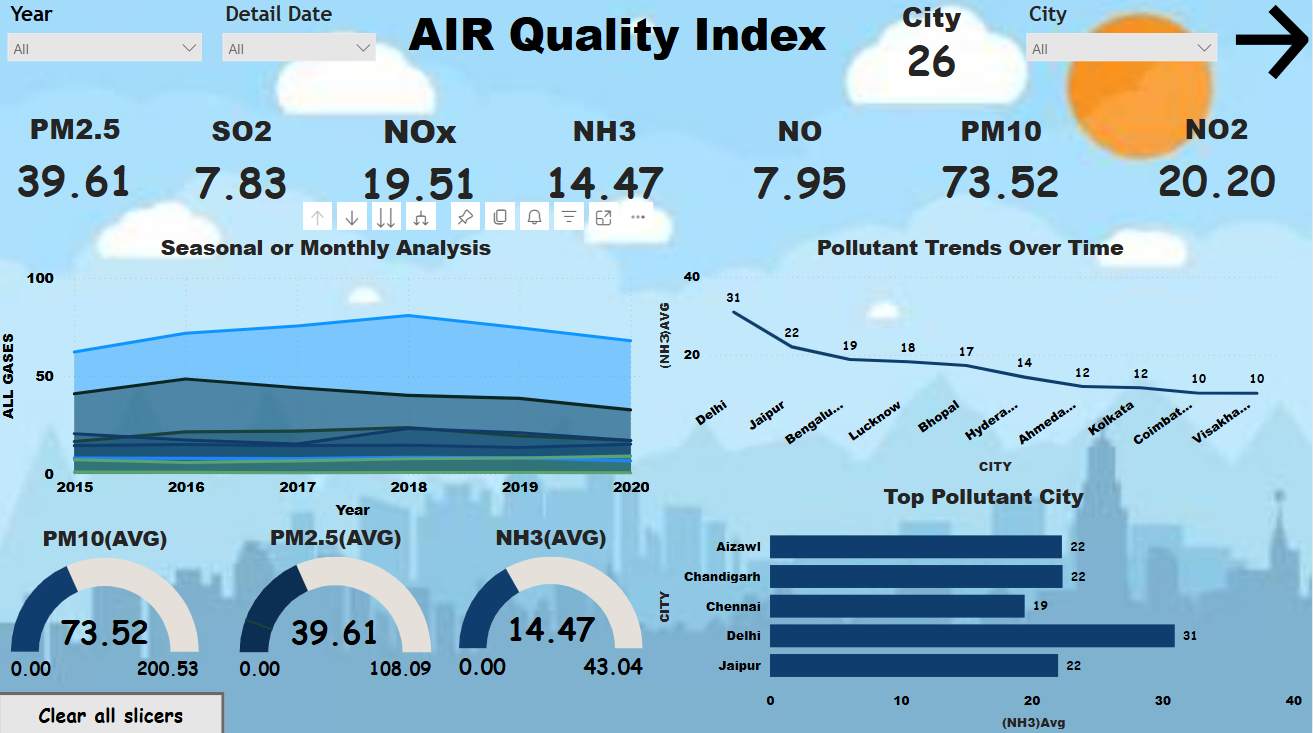

What the dashboard file says about the page in this screenshot:
{"tool":"powerbi","page":{"name":"Page 1","canvas":[1280,720],"ordinal":0},"visuals":[{"type":"card","title":"City","fields":{"Values":["Count(Dataset.City)"]},"box":[838.8,0,140.1,88.2],"z":0},{"type":"card","title":"SO2","fields":{"Values":["Avg(Dataset.SO2)"]},"box":[152.2,110.2,172.4,105.6],"z":1000},{"type":"card","title":"PM2.5","fields":{"Values":["Avg(Dataset.PM2.5)"]},"box":[0,108.7,152.2,105.6],"z":2000},{"type":"card","title":"PM10","fields":{"Values":["Avg(Dataset.PM10)"]},"box":[878.9,110.2,195.6,104],"z":3000},{"type":"card","title":"NO","fields":{"Values":["Avg(Dataset.NO)"]},"box":[683.2,110.2,195.6,105.6],"z":4000},{"type":"card","title":"NOx","fields":{"Values":["Avg(Dataset.NOx)"]},"box":[323,108.7,175.5,107.1],"z":5000},{"type":"card","title":"NH3","fields":{"Values":["Avg(Dataset.NH3)"]},"box":[498.4,110.2,184.8,105.6],"z":6000},{"type":"card","title":"NO2","fields":{"Values":["Avg(Dataset.NO2)"]},"box":[1093.2,108.7,186.3,105.6],"z":7000},{"type":"slicer","fields":{"Values":["Dataset.City"]},"box":[991,0,205.8,88.2],"z":8000},{"type":"lineChart","title":"Pollutant Trends Over Time","fields":{"Category":["Dataset.City"],"Y":["Avg(Dataset.NH3)"]},"box":[639.9,228.3,614,242.1],"z":9000},{"type":"areaChart","title":"Seasonal or Monthly Analysis","fields":{"Y":["Avg(Dataset.NH3)","Avg(Dataset.NO)","Avg(Dataset.NO2)","Avg(Dataset.CO)","Avg(Dataset.NOx)","Avg(Dataset.PM10)","Avg(Dataset.PM2.5)","Avg(Dataset.SO2)"],"Category":["Dataset.Date.Variation.Date Hierarchy.Year","Dataset.Date.Variation.Date Hierarchy.Quarter","Dataset.Date.Variation.Date Hierarchy.Month","Dataset.Date.Variation.Date Hierarchy.Day"]},"box":[0,228.3,639.7,284.2],"z":10000},{"type":"gauge","title":"PM2.5(AVG)","fields":{"Y":["Avg(Dataset.PM2.5)"]},"box":[221.4,510.2,216.2,166],"z":11000},{"type":"slicer","fields":{"Values":["Dataset.Date.Variation.Date Hierarchy.Year"]},"box":[0,0,209.3,88.2],"z":12000},{"type":"slicer","fields":{"Values":["Dataset.Date.Variation.Date Hierarchy.Quarter","Dataset.Date.Variation.Date Hierarchy.Month","Dataset.Date.Variation.Date Hierarchy.Day"]},"box":[209.3,0,169.5,88.2],"z":13000},{"type":"textbox","box":[378.8,0,460,88.2],"z":14000},{"type":"gauge","title":"PM10(AVG)","fields":{"Y":["Avg(Dataset.PM10)"]},"box":[1.7,511.9,207.5,164.3],"z":15000},{"type":"gauge","title":"NH3(AVG)","fields":{"Y":["Avg(Dataset.NH3)"]},"box":[437.6,510.2,202.4,166],"z":16000},{"type":"clusteredBarChart","title":"Top Pollutant City","fields":{"Y":["Avg(Dataset.NH3)"],"Category":["Dataset.City"]},"box":[639.9,470.4,639.9,249],"z":17000},{"type":"actionButton","box":[1196.8,0,83,88.2],"z":18000},{"type":"actionButton","box":[0,676.2,221.4,43.2],"z":19000}]}

Visuals, with their boxes in screenshot pixels (x1, y1, x2, y2), scaled from the page's 1280x720 canvas onto the 1313x733 screenshot:
"City" card: (860, 0, 1004, 90)
"SO2" card: (156, 112, 333, 220)
"PM2.5" card: (0, 111, 156, 218)
"PM10" card: (902, 112, 1102, 218)
"NO" card: (701, 112, 901, 220)
"NOx" card: (331, 111, 511, 220)
"NH3" card: (511, 112, 701, 220)
"NO2" card: (1121, 111, 1312, 218)
slicer - Dataset.City: (1017, 0, 1228, 90)
"Pollutant Trends Over Time" lineChart: (656, 232, 1286, 479)
"Seasonal or Monthly Analysis" areaChart: (0, 232, 656, 522)
"PM2.5(AVG)" gauge: (227, 519, 449, 688)
slicer - Dataset.Date.Variation.Date Hierarchy.Year: (0, 0, 215, 90)
slicer - Dataset.Date.Variation.Date Hierarchy.Quarter x Dataset.Date.Variation.Date Hierarchy.Month: (215, 0, 389, 90)
textbox: (389, 0, 860, 90)
"PM10(AVG)" gauge: (2, 521, 215, 688)
"NH3(AVG)" gauge: (449, 519, 656, 688)
"Top Pollutant City" clusteredBarChart: (656, 479, 1312, 732)
actionButton: (1228, 0, 1312, 90)
actionButton: (0, 688, 227, 732)
